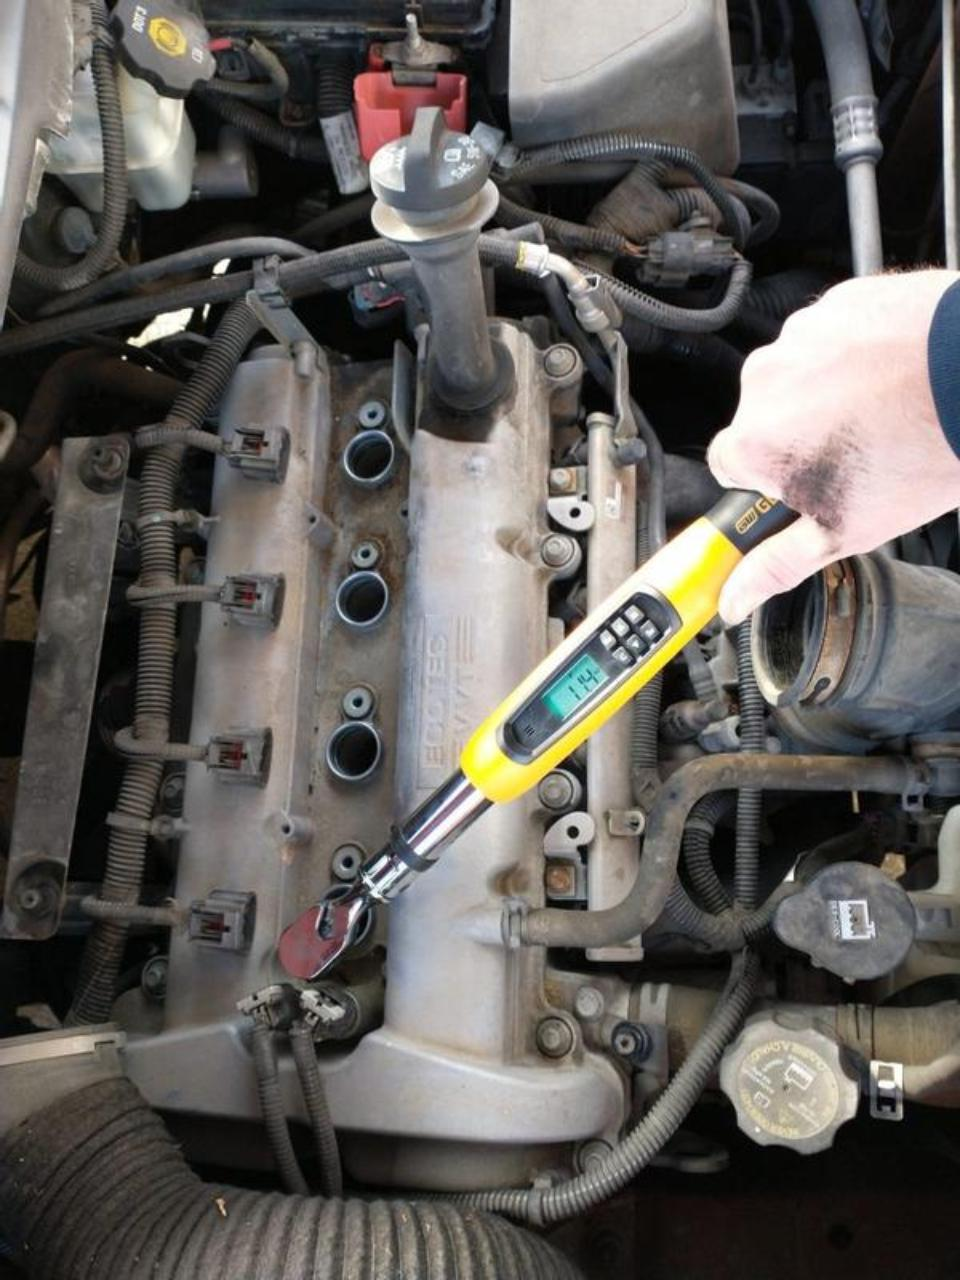Tool: (276, 882, 358, 992)
